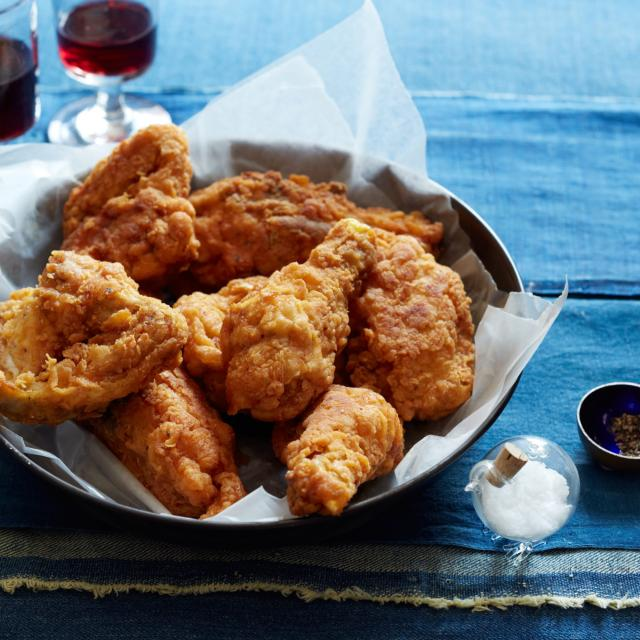Frango: (0, 123, 478, 528)
